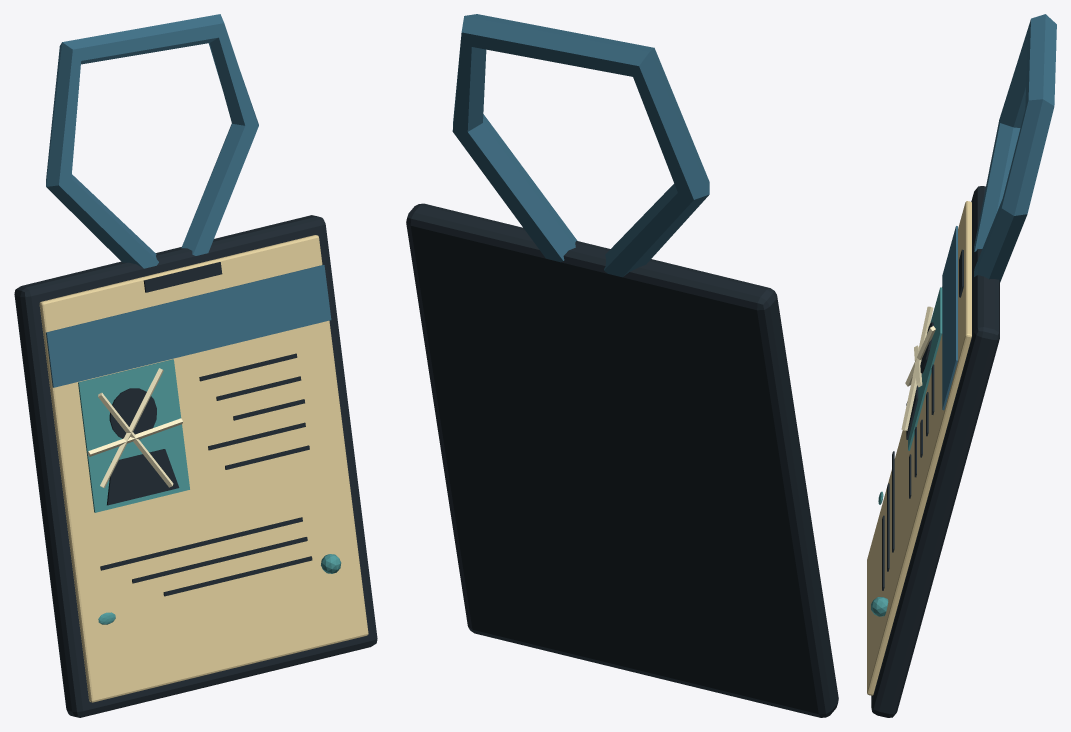
The picture shows the model from 3 angles, left to right: view 1: azimuth 30°, elevation 25°; view 2: azimuth 150°, elevation 25°; view 3: azimuth 270°, elevation 25°; orthographic projection. The views are drawn at different scales.
Parts seen in each view (by area): view 1: C1-02_paper, C1-02_ink, C1-02_blue, C1-02_teal, C1-02_pale; view 2: C1-02_ink, C1-02_blue; view 3: C1-02_ink, C1-02_blue, C1-02_paper, C1-02_teal, C1-02_pale.
Boxes of the visible parts, box(x1,y1,x2,y2) form: C1-02_paper: box(39, 235, 368, 702); C1-02_ink: box(14, 215, 377, 717); C1-02_blue: box(46, 14, 331, 387); C1-02_teal: box(78, 359, 341, 624); C1-02_pale: box(87, 368, 183, 487); C1-02_ink: box(406, 203, 838, 717); C1-02_blue: box(452, 14, 709, 277); C1-02_ink: box(871, 186, 999, 717); C1-02_blue: box(942, 14, 1056, 410); C1-02_paper: box(867, 201, 971, 695); C1-02_teal: box(871, 287, 942, 616); C1-02_pale: box(901, 306, 935, 430).
Size of the model in its own units: 0.34 by 0.6397 by 0.185.
